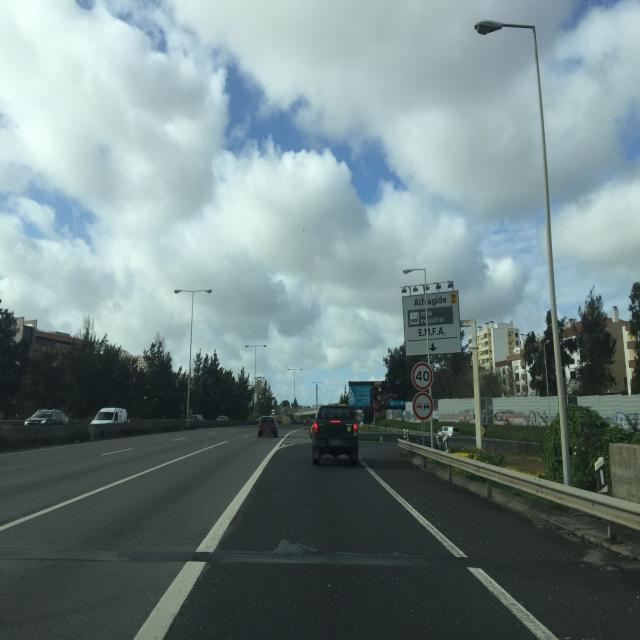car: (310, 403, 360, 467), (24, 408, 69, 427), (90, 406, 128, 426), (257, 416, 279, 438), (216, 414, 230, 422), (192, 414, 205, 421)
